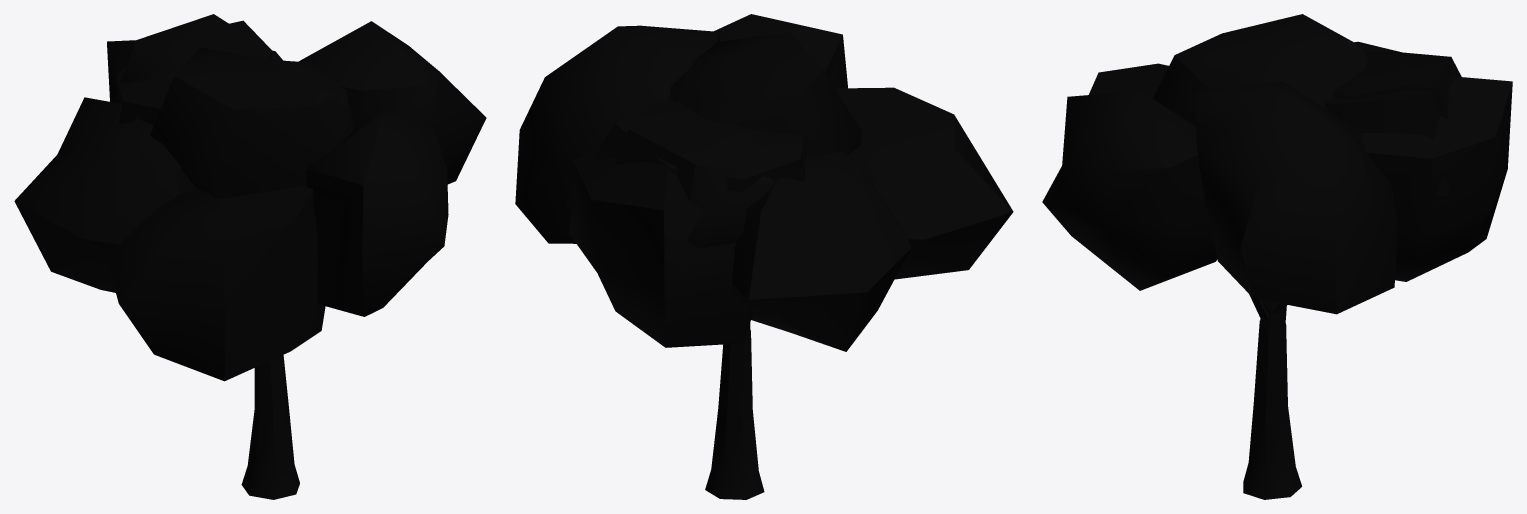
Rendered from SM_oak_large.fbx.
The picture shows the model from 3 angles, left to right: view 1: azimuth 30°, elevation 25°; view 2: azimuth 150°, elevation 25°; view 3: azimuth 270°, elevation 25°; orthographic projection. The views are drawn at different scales.
Visible parts, largest first — view 1: oak_large_crown, oak_large; view 2: oak_large_crown, oak_large; view 3: oak_large_crown, oak_large.
Boxes of the visible parts, left/top/right/bottom form: oak_large_crown: left=14, top=14, right=486, bottom=381; oak_large: left=241, top=355, right=299, bottom=499; oak_large_crown: left=515, top=14, right=1013, bottom=351; oak_large: left=705, top=330, right=764, bottom=499; oak_large_crown: left=1042, top=14, right=1512, bottom=328; oak_large: left=1243, top=320, right=1301, bottom=499.
Size of the model in its own units: 9.99 by 10.02 by 9.56.
